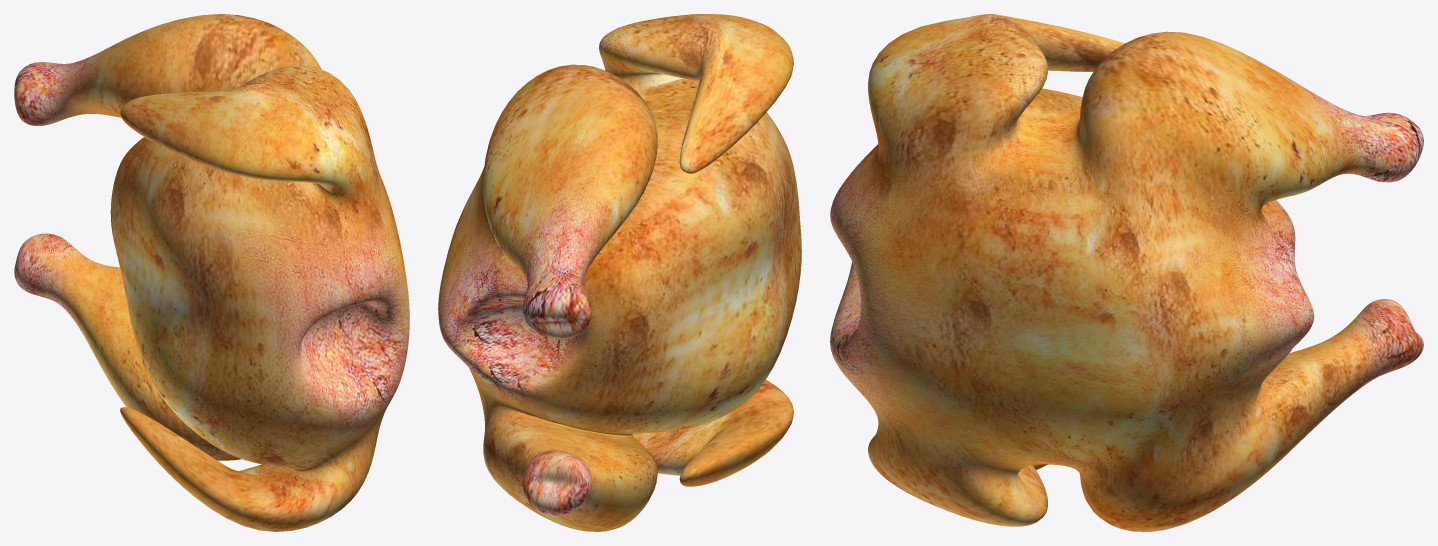
Rendered from chicken.obj.
3 renders of one model, left to right at view 1: azimuth 30°, elevation 25°; view 2: azimuth 150°, elevation 25°; view 3: azimuth 270°, elevation 25°, orthographic. The views are drawn at different scales.
Visible parts, largest first — view 1: rotisserie_chicken; view 2: rotisserie_chicken; view 3: rotisserie_chicken.
Boxes of the visible parts, bbox=[...] form: rotisserie_chicken: bbox=[14, 14, 409, 531]; rotisserie_chicken: bbox=[438, 14, 801, 531]; rotisserie_chicken: bbox=[830, 14, 1423, 531].
Bounding box in the file's own units: 166 × 288 × 321.
